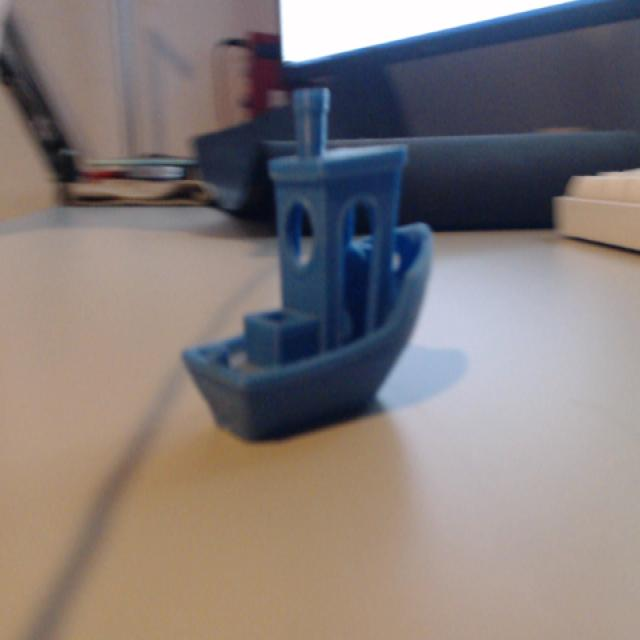benchy: (180, 84, 436, 441)
